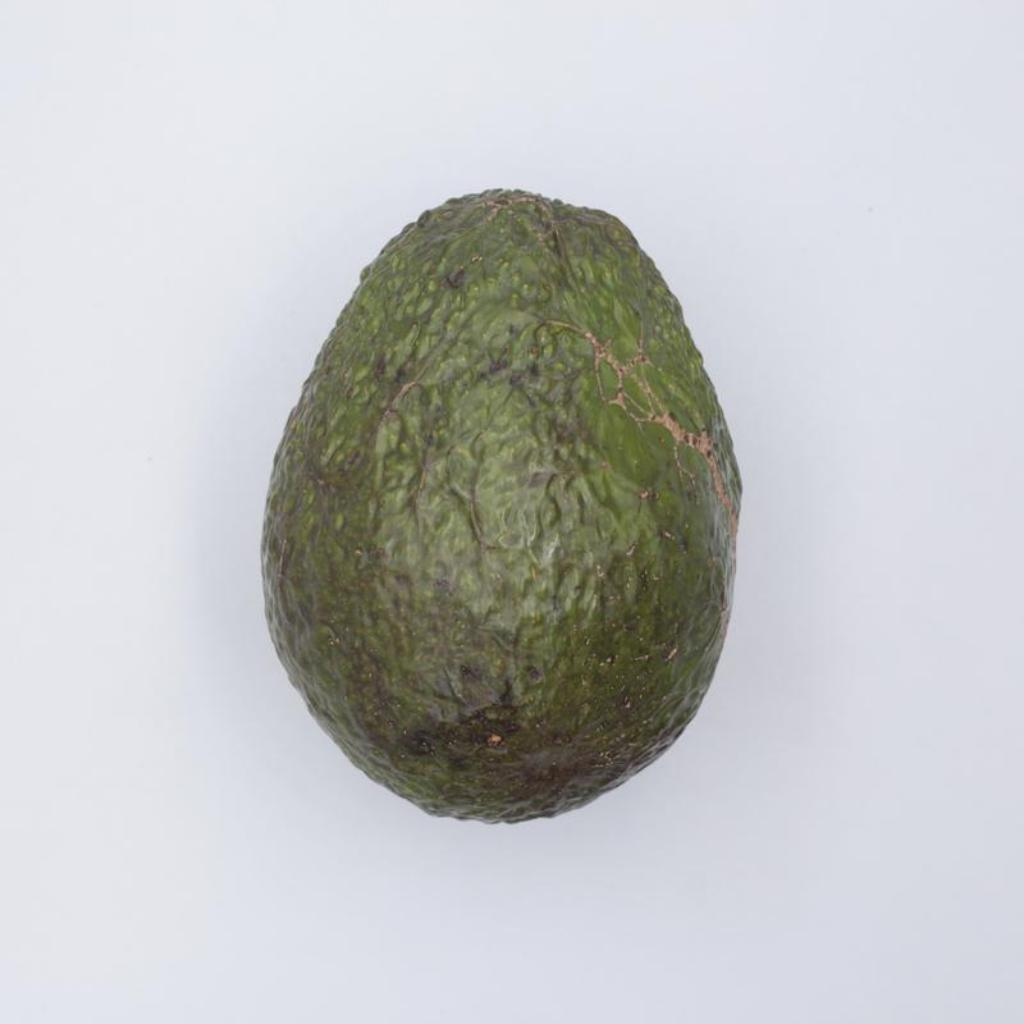scab: (261, 189, 740, 822)
